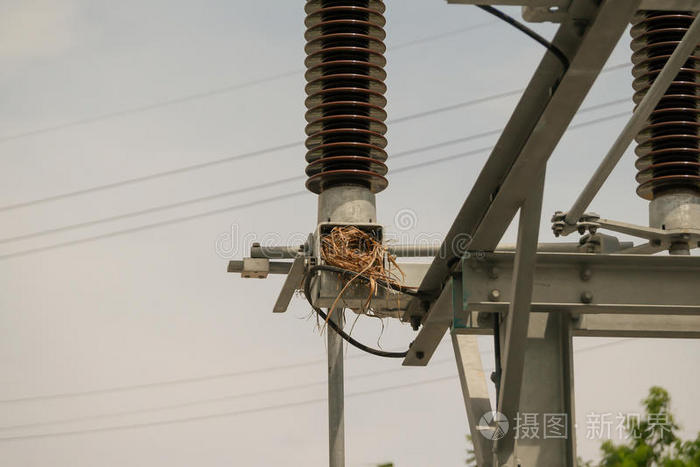insulator: (298, 1, 395, 197), (631, 2, 700, 196)
